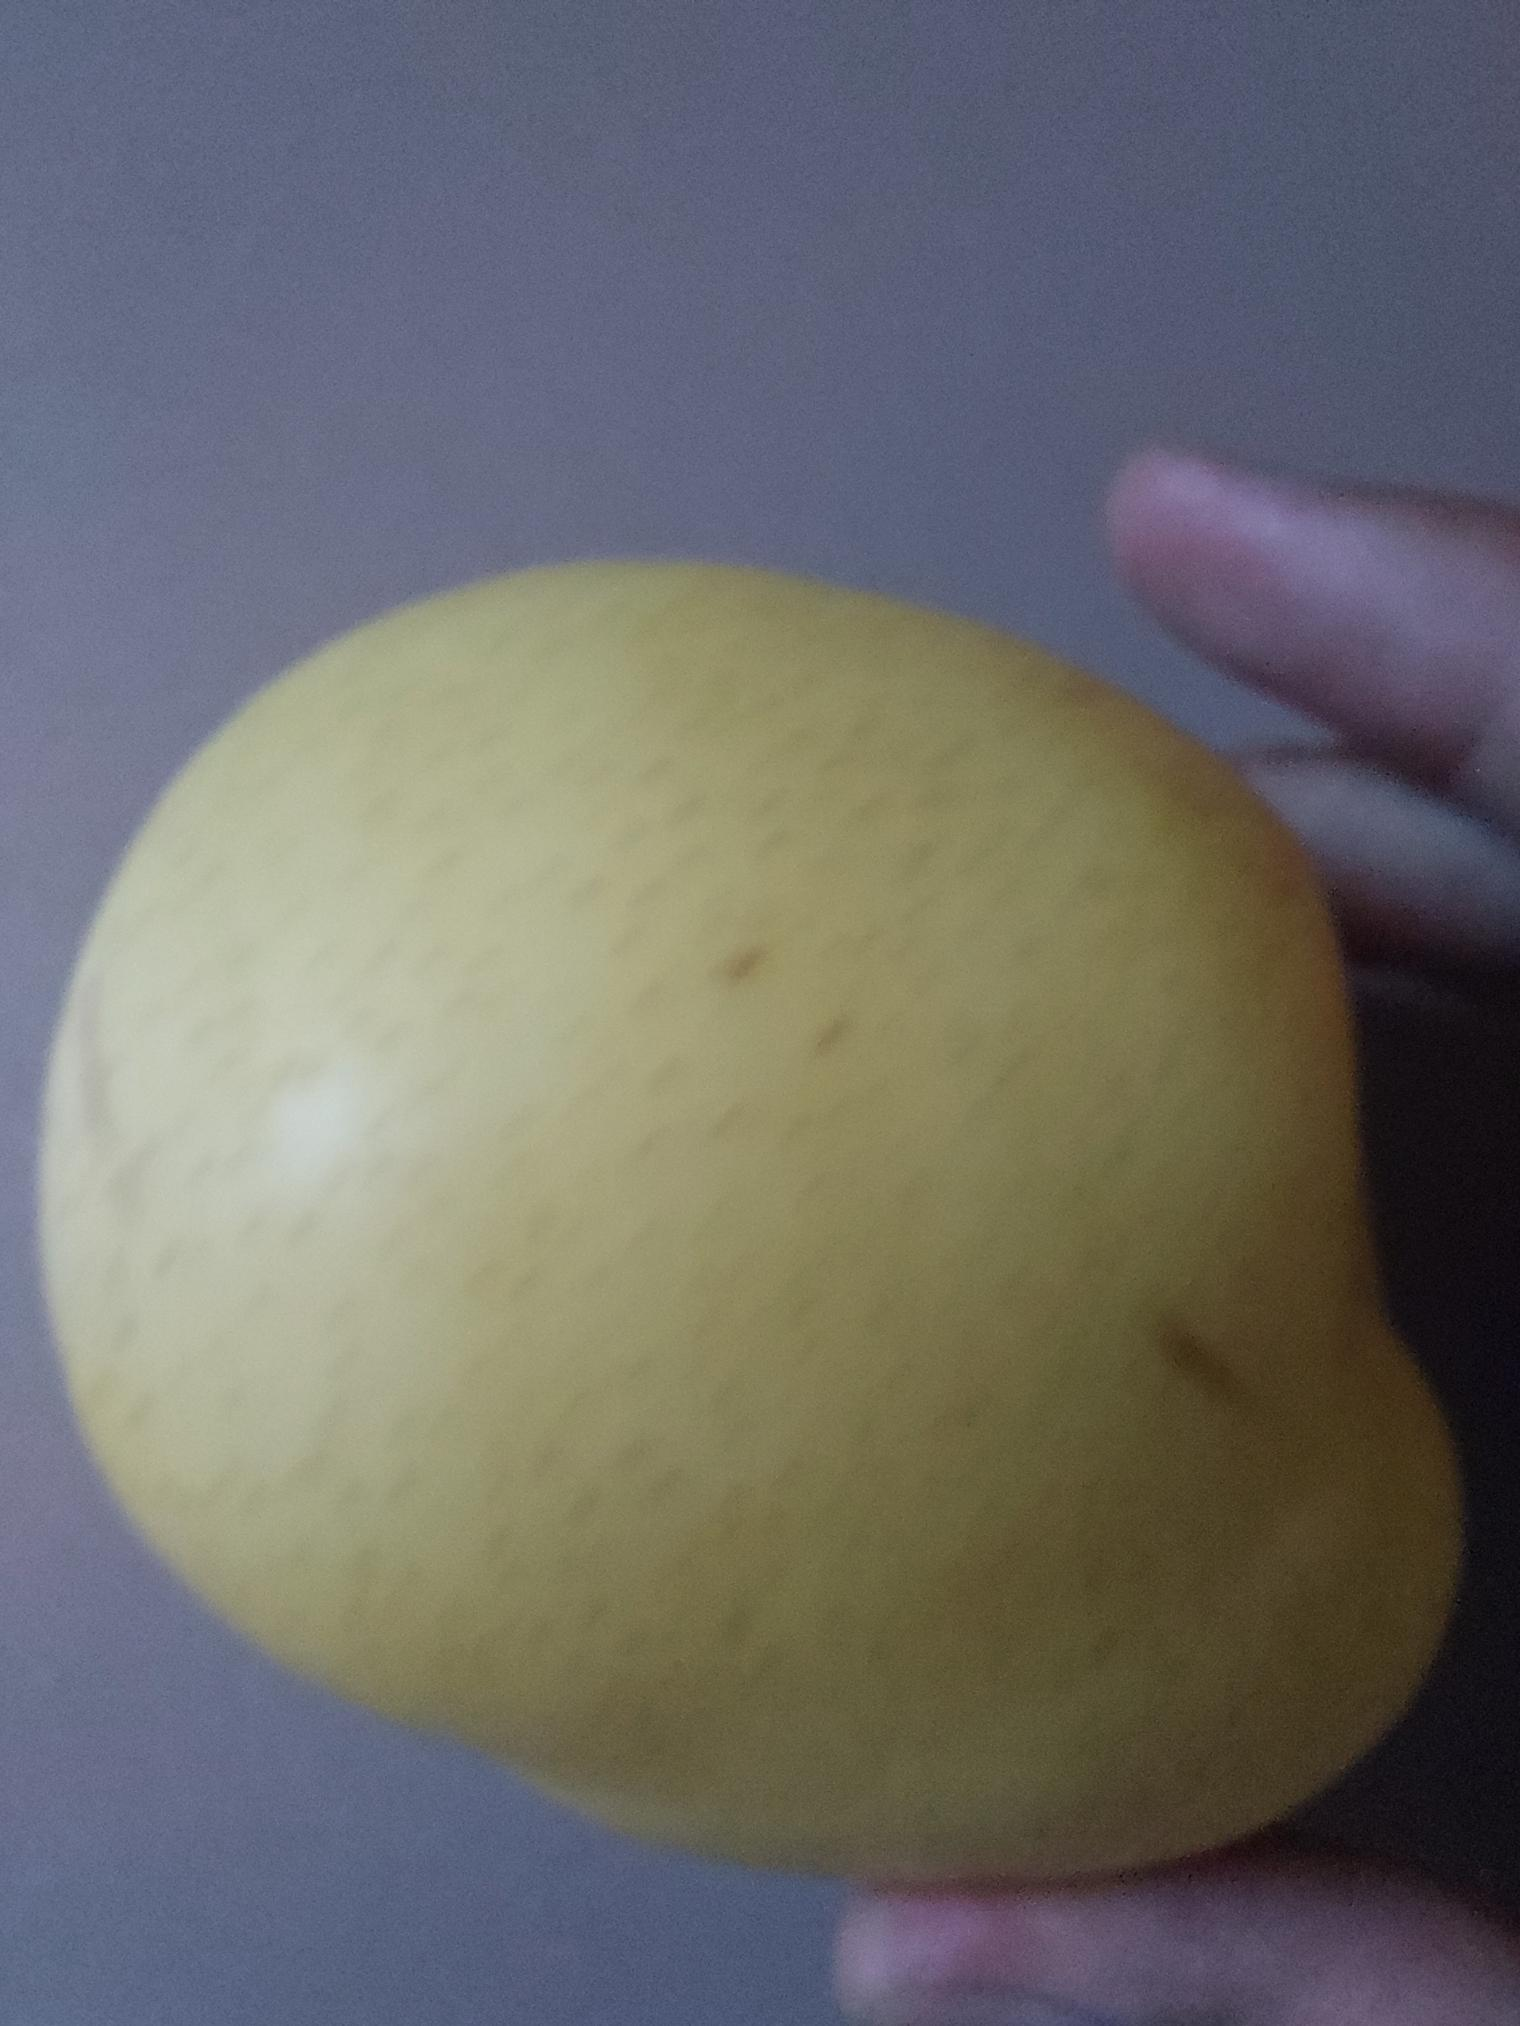Good Pear: (54, 640, 1204, 1833)
